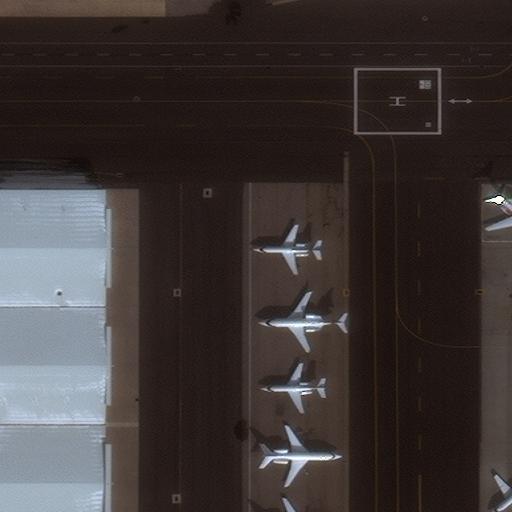Medium Civil Transport: (257, 291, 345, 352), (261, 425, 343, 487), (252, 224, 321, 274), (259, 363, 326, 413), (487, 192, 511, 234), (489, 477, 511, 512)
